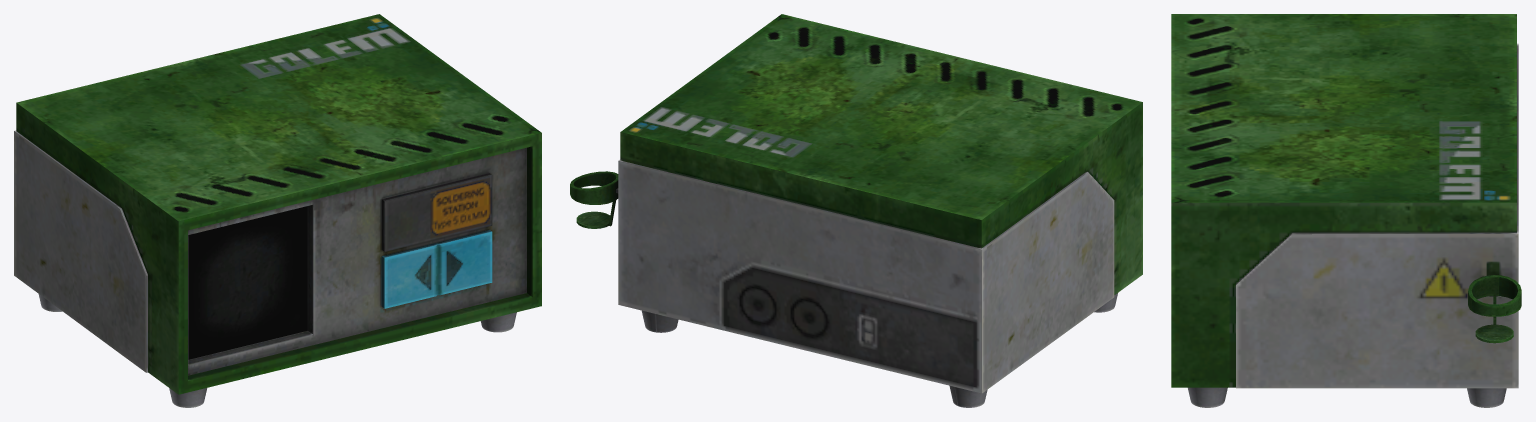
Rendered from soldering_station.DAE.
The picture shows the model from 3 angles, left to right: view 1: azimuth 30°, elevation 25°; view 2: azimuth 150°, elevation 25°; view 3: azimuth 270°, elevation 25°; orthographic projection. The views are drawn at different scales.
Parts seen in each view (by area): view 1: soldering_station; view 2: soldering_station; view 3: soldering_station.
Part boxes in pixels (x1,y1,x2,y2): soldering_station: [14, 14, 541, 407]; soldering_station: [570, 14, 1142, 407]; soldering_station: [1171, 14, 1521, 407].
Size of the model in its own units: 15.87 by 7.14 by 10.71.
